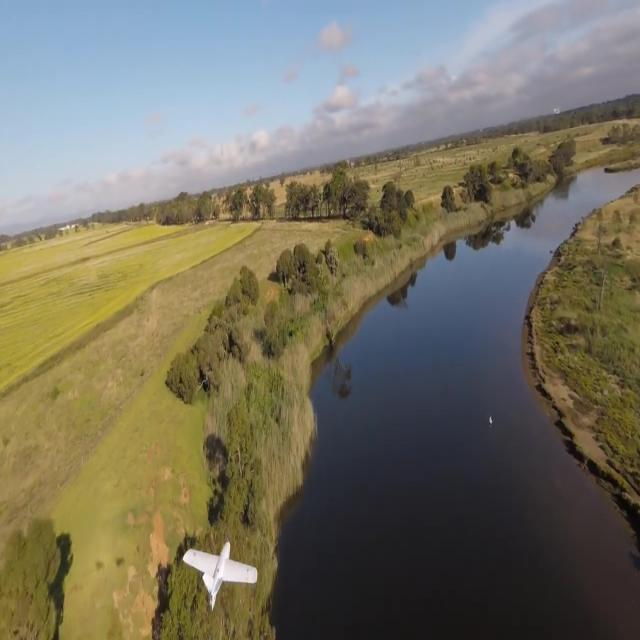iha: (217, 575, 223, 577)
